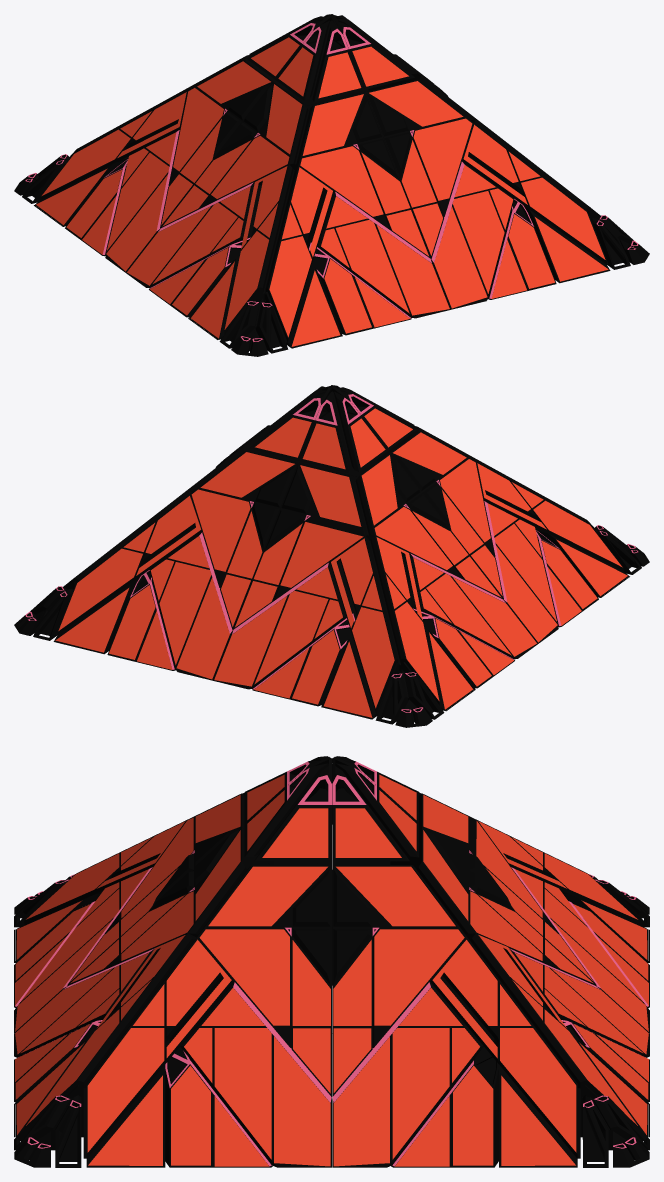
File: 32m_building_01.glb
3 renders of one model, top to bottom at view 1: azimuth 30°, elevation 25°; view 2: azimuth 150°, elevation 25°; view 3: azimuth 270°, elevation 25°, orthographic. The views are drawn at different scales.
Visible parts, largest first — view 1: pymarid, emission_01, trim_emission; view 2: pymarid, emission_01, trim_emission; view 3: pymarid, emission_01, trim_emission.
Boxes of the visible parts, left/top/right/bottom form: pymarid: left=14, top=14, right=649, bottom=356; emission_01: left=102, top=130, right=514, bottom=318; trim_emission: left=25, top=23, right=638, bottom=341; pymarid: left=14, top=385, right=649, bottom=727; emission_01: left=150, top=501, right=561, bottom=689; trim_emission: left=25, top=394, right=638, bottom=712; pymarid: left=14, top=756, right=649, bottom=1167; emission_01: left=15, top=867, right=648, bottom=1166; trim_emission: left=27, top=761, right=636, bottom=1148.
Size of what is drawn, in the model's own units: 39.91 by 19.07 by 39.91.
Materials: 2 (2 with a texture image).
